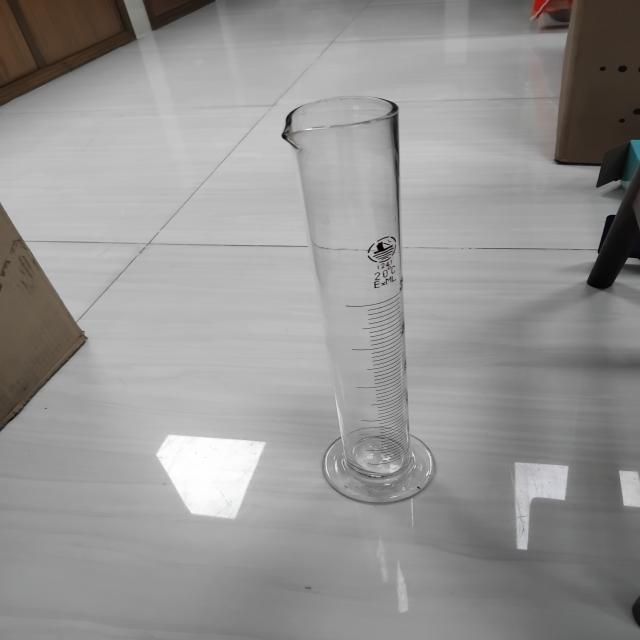Measuring_Cylinder: (242, 56, 492, 530)
